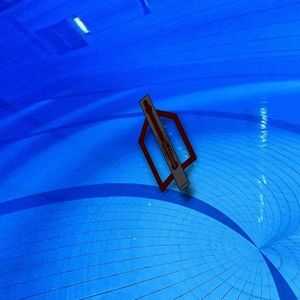submarine: (134, 89, 200, 198)
